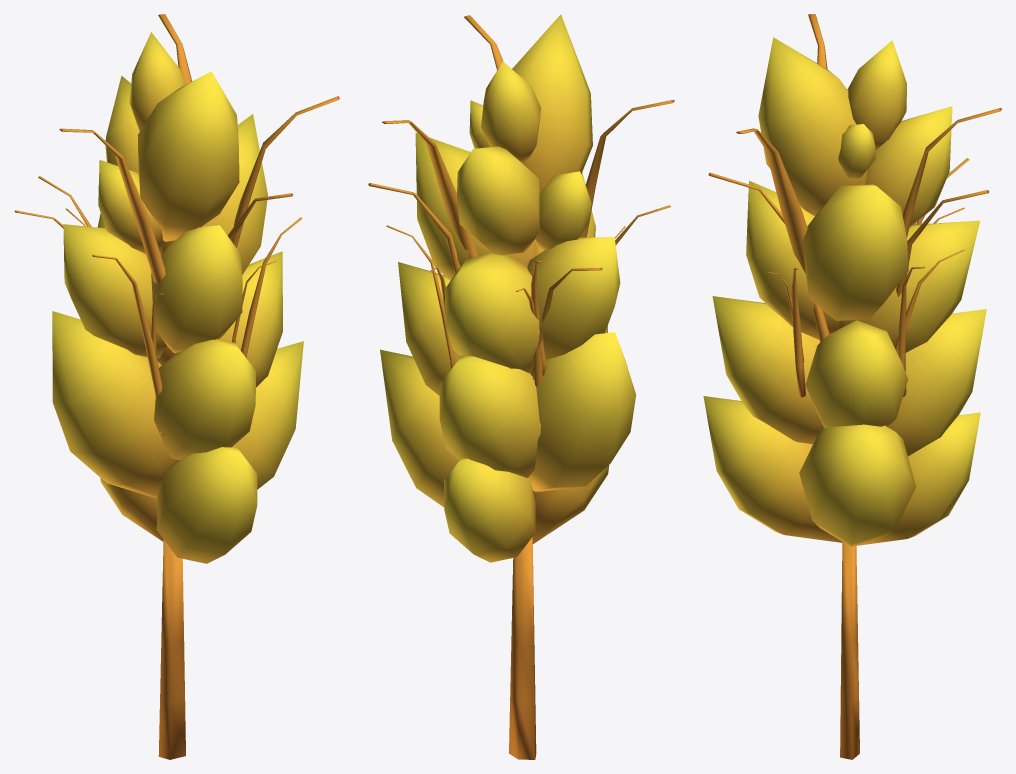
Rendered from Grain_main.fbx.
3 renders of one model, left to right at view 1: azimuth 30°, elevation 25°; view 2: azimuth 150°, elevation 25°; view 3: azimuth 270°, elevation 25°, orthographic.
Visible parts, largest first — view 1: Grain; view 2: Grain; view 3: Grain.
Part boxes in pixels (x1,y1,x2,y2): Grain: (14,14,339,759); Grain: (368,14,674,759); Grain: (703,14,1001,759).
Bounding box in the file's own units: 1.69 × 4.3 × 1.62.
